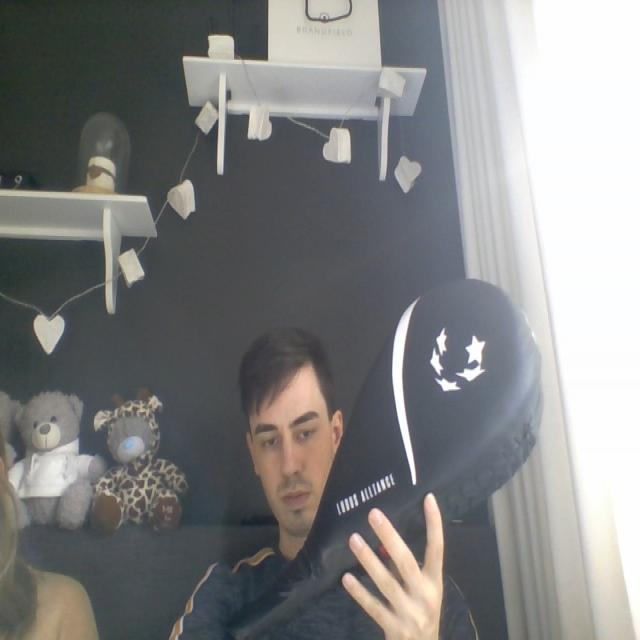paddle: (224, 277, 546, 640)
